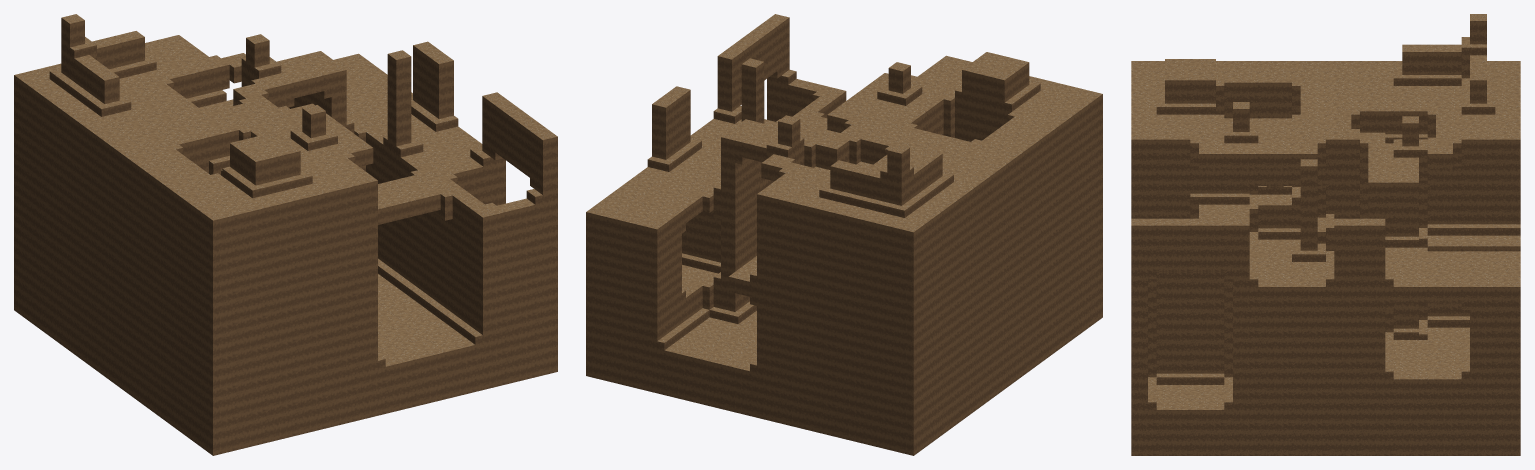
The model's file is chemins.glb.
The picture shows the model from 3 angles, left to right: view 1: azimuth 30°, elevation 25°; view 2: azimuth 150°, elevation 25°; view 3: azimuth 270°, elevation 25°; orthographic projection. The views are drawn at different scales.
Parts seen in each view (by area): view 1: edge_inner_b4h2_outdoor_345, edge_inner_b4h2_outdoor_338, slab_b2h2_outdoor_161, slab_b2h2_outdoor_310, slab_b2h2_outdoor_330, slab_b2h2_outdoor_377, slab_b2h2_outdoor_745, slab_b2h2_outdoor_916, slab_b2h2_outdoor_131, slab_b2h2_outdoor_141, slab_b2h2_outdoor_173, slab_b2h2_outdoor_209 (+182 smaller); view 2: edge_inner_b4h2_outdoor_337, edge_inner_b4h2_outdoor_254, edge_inner_b3h3_outdoor_407, edge_inner_b4h2_845, corner_inner_b4h3_outdoor_749, slab_b2h2_outdoor_513, slab_b2h2_outdoor_692, slab_b2h2_outdoor_842, slab_b2h2_outdoor_850, slab_b2h2_outdoor_857, slab_b2h2_outdoor_835, slab_b2h2_outdoor_837 (+157 smaller); view 3: edge_inner_b4h2_outdoor_256, edge_inner_b4h2_outdoor_419, edge_inner_b4h2_outdoor_552, edge_inner_b4h2_553, edge_inner_b4h2_571, edge_inner_b4h2_outdoor_839, ell_inner_b3h2_b_572, slab_b2h2_outdoor_1016, slab_b2h2_outdoor_1023, slab_b2h2_outdoor_576, slab_b2h2_outdoor_586, slab_b2h2_outdoor_967 (+164 smaller).
Part boxes in pixels (bbox=[...]): edge_inner_b4h2_outdoor_345: bbox=[263, 161, 305, 200]; edge_inner_b4h2_outdoor_338: bbox=[107, 46, 149, 86]; slab_b2h2_outdoor_161: bbox=[220, 282, 250, 320]; slab_b2h2_outdoor_310: bbox=[280, 299, 310, 337]; slab_b2h2_outdoor_330: bbox=[280, 236, 310, 274]; slab_b2h2_outdoor_377: bbox=[310, 323, 340, 361]; slab_b2h2_outdoor_745: bbox=[460, 349, 490, 387]; slab_b2h2_outdoor_916: bbox=[520, 240, 550, 278]; slab_b2h2_outdoor_131: bbox=[220, 407, 250, 445]; slab_b2h2_outdoor_141: bbox=[220, 345, 250, 383]; slab_b2h2_outdoor_173: bbox=[220, 219, 250, 257]; slab_b2h2_outdoor_209: bbox=[250, 369, 280, 407]; edge_inner_b4h2_outdoor_337: bbox=[825, 175, 865, 213]; edge_inner_b4h2_outdoor_254: bbox=[854, 182, 894, 220]; edge_inner_b3h3_outdoor_407: bbox=[935, 105, 969, 138]; edge_inner_b4h2_845: bbox=[682, 240, 715, 277]; corner_inner_b4h3_outdoor_749: bbox=[694, 292, 727, 326]; slab_b2h2_outdoor_513: bbox=[735, 375, 764, 411]; slab_b2h2_outdoor_692: bbox=[678, 361, 707, 397]; slab_b2h2_outdoor_842: bbox=[621, 288, 650, 324]; slab_b2h2_outdoor_850: bbox=[621, 258, 650, 294]; slab_b2h2_outdoor_857: bbox=[621, 228, 650, 264]; slab_b2h2_outdoor_835: bbox=[621, 347, 650, 383]; slab_b2h2_outdoor_837: bbox=[621, 318, 650, 354]; edge_inner_b4h2_outdoor_256: bbox=[1410, 59, 1444, 93]; edge_inner_b4h2_outdoor_419: bbox=[1173, 88, 1207, 121]; edge_inner_b4h2_outdoor_552: bbox=[1478, 209, 1512, 242]; edge_inner_b4h2_553: bbox=[1444, 209, 1478, 242]; edge_inner_b4h2_571: bbox=[1207, 178, 1241, 211]; edge_inner_b4h2_outdoor_839: bbox=[1173, 358, 1207, 391]; ell_inner_b3h2_b_572: bbox=[1173, 178, 1207, 212]; slab_b2h2_outdoor_1016: bbox=[1478, 294, 1512, 325]; slab_b2h2_outdoor_1023: bbox=[1241, 294, 1275, 325]; slab_b2h2_outdoor_576: bbox=[1478, 147, 1512, 178]; slab_b2h2_outdoor_586: bbox=[1139, 147, 1173, 178]; slab_b2h2_outdoor_967: bbox=[1478, 417, 1512, 448].
Bounding box in the file's own units: 11.5 × 9.5 × 11.5.
2 materials, 2 textured.
